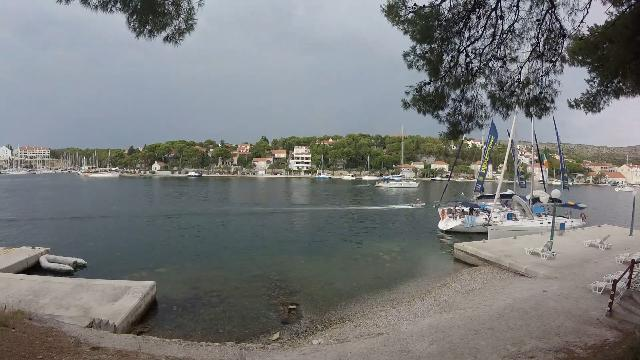Sailboat: (374, 176, 424, 190)
speedboat: (404, 195, 430, 210)
